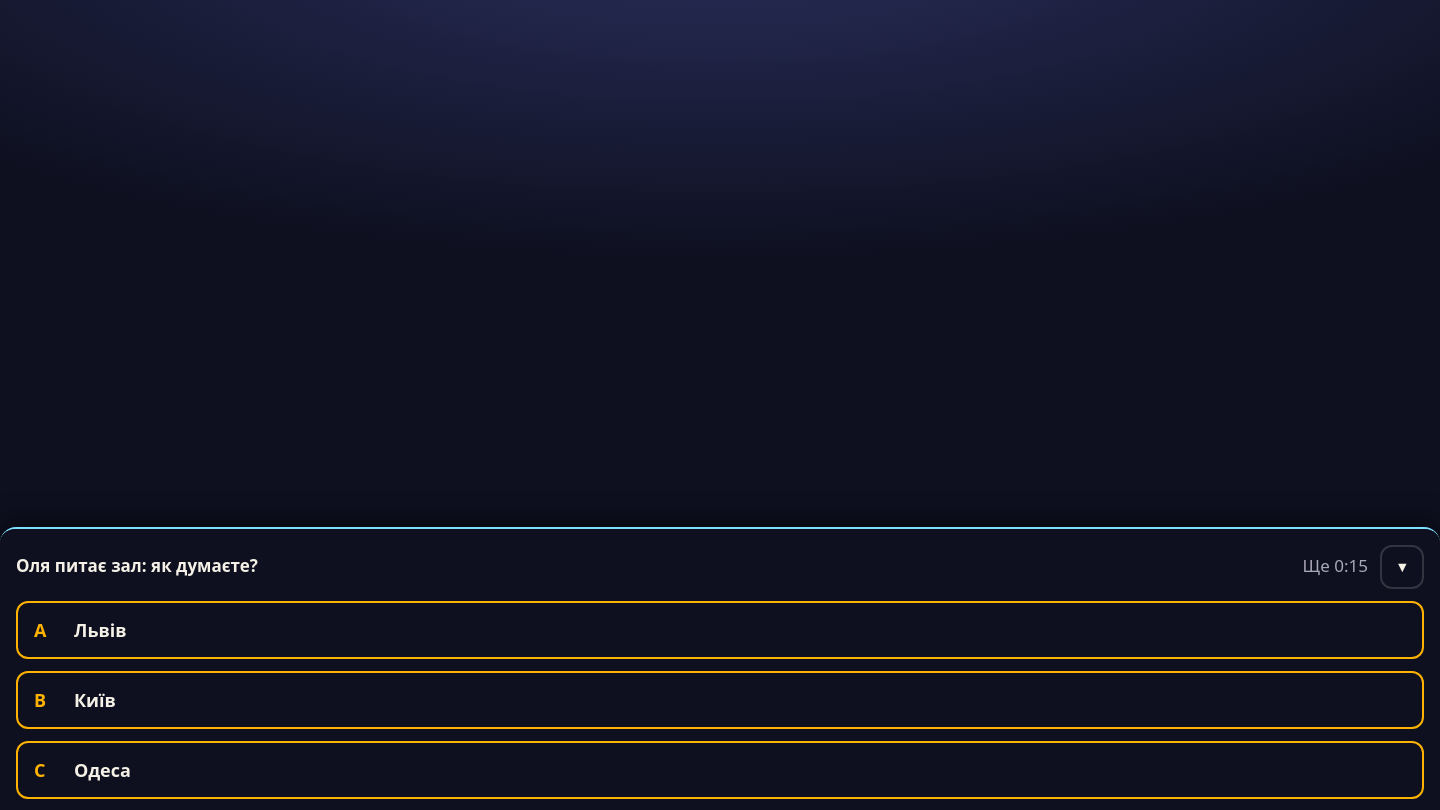
VoteSheet › the folded head stays one line at 360 px: the ask is cut with an ellipsis, the toggle is an icon
The width and height of the screenshot is (1440, 810).
Click the button named "Згорнути" at coordinates (1402, 566), box [1380,544,1424,588]
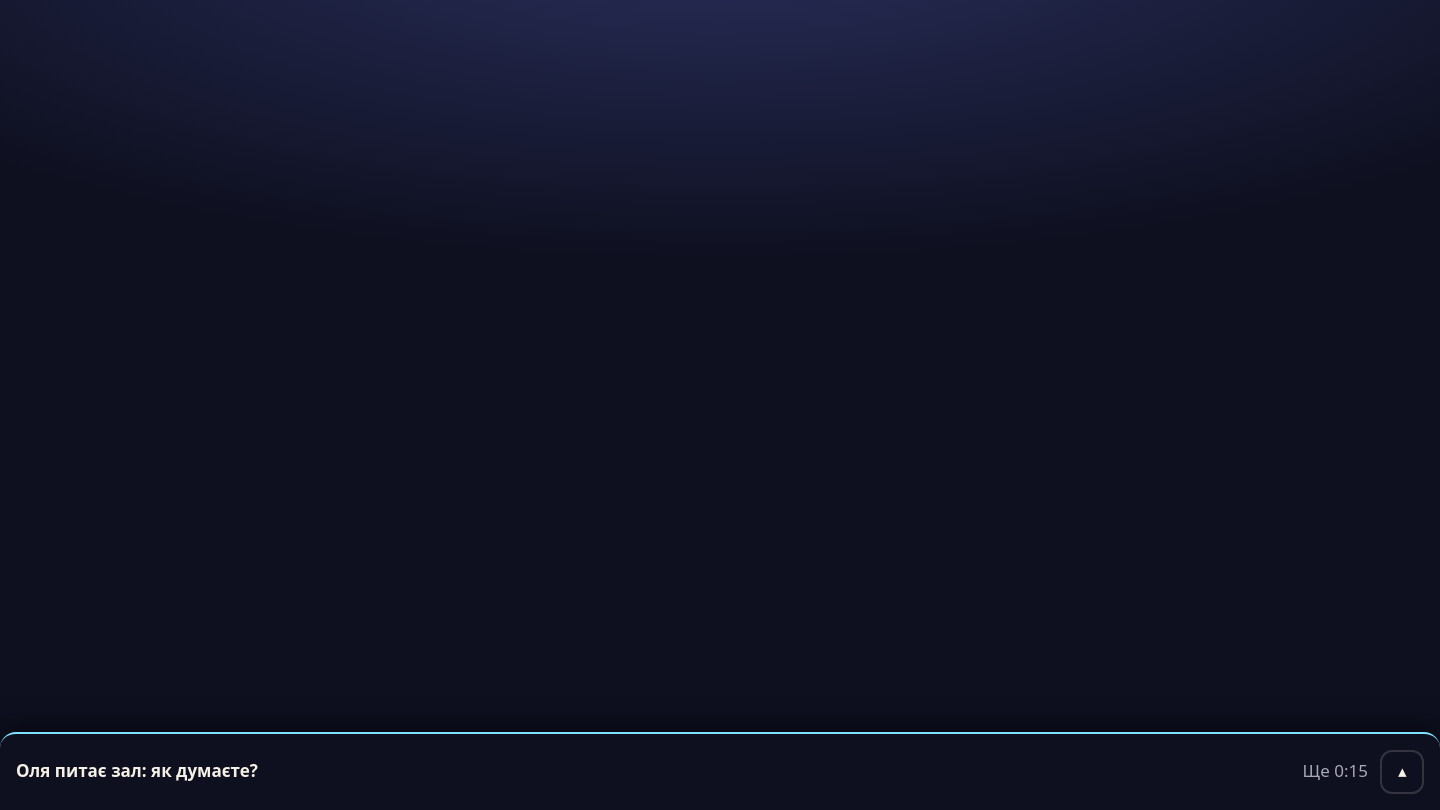
Expected: the button named "Розгорнути" reads "▴", [1380,750,1424,794]
